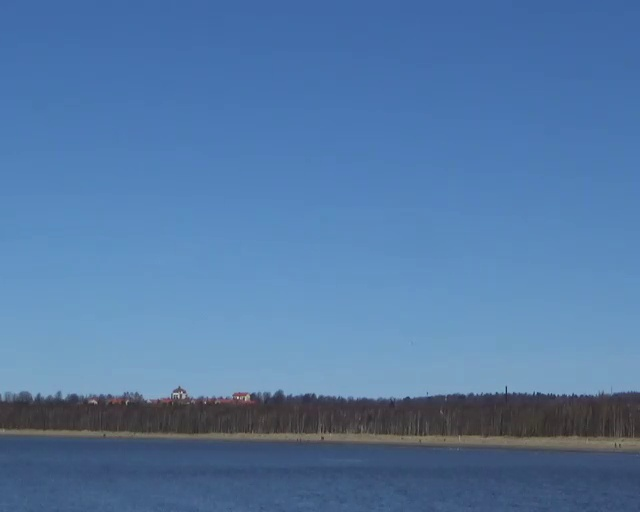HELICOPTER: (171, 385, 187, 399)
